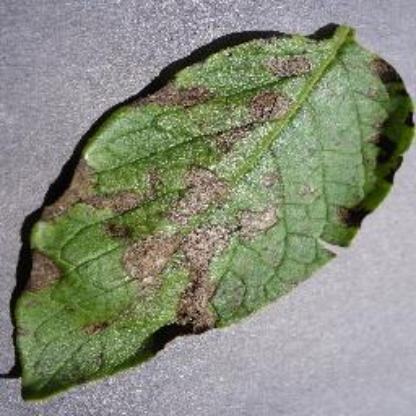Early-Blight: (12, 19, 416, 403)
